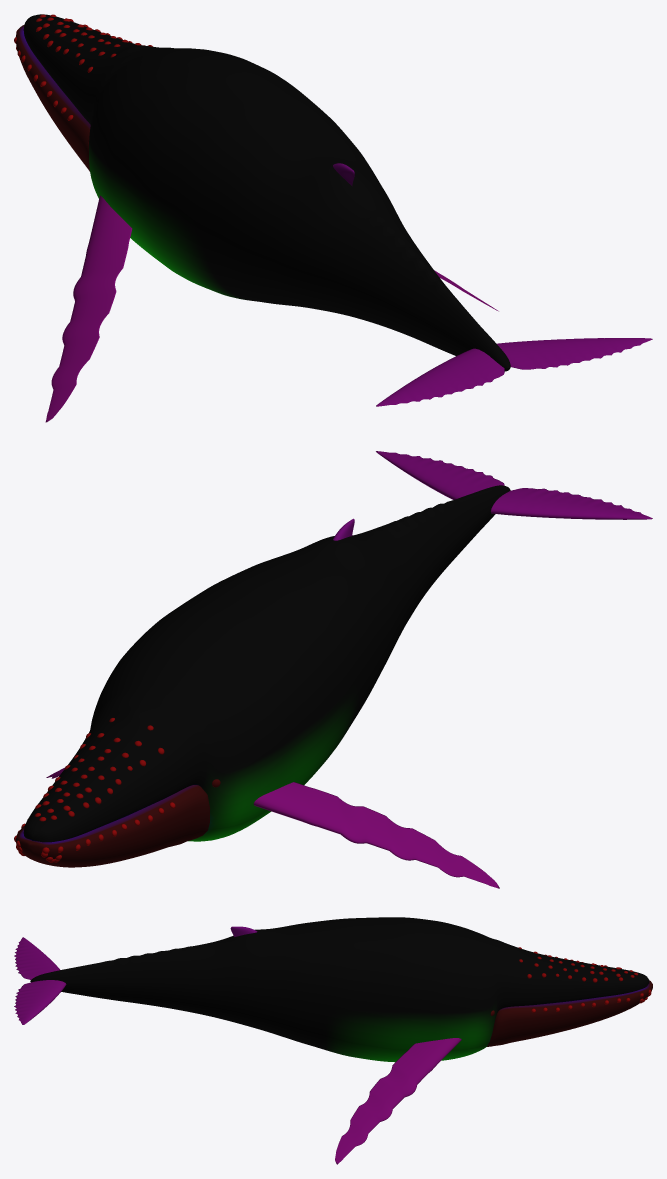
The model's file is humpback_whale.glb.
3 views of the same model, one above another, from view 1: azimuth 30°, elevation 25°; view 2: azimuth 150°, elevation 25°; view 3: azimuth 270°, elevation 25° (orthographic). The views are drawn at different scales.
Visible parts, largest first — view 1: humpback_whale; view 2: humpback_whale; view 3: humpback_whale.
Part boxes in pixels (x1,y1,x2,y2): humpback_whale: (14,14,652,422); humpback_whale: (14,451,652,888); humpback_whale: (14,917,652,1164).
Size of the model in its own units: 7.59 by 4.13 by 14.24.
